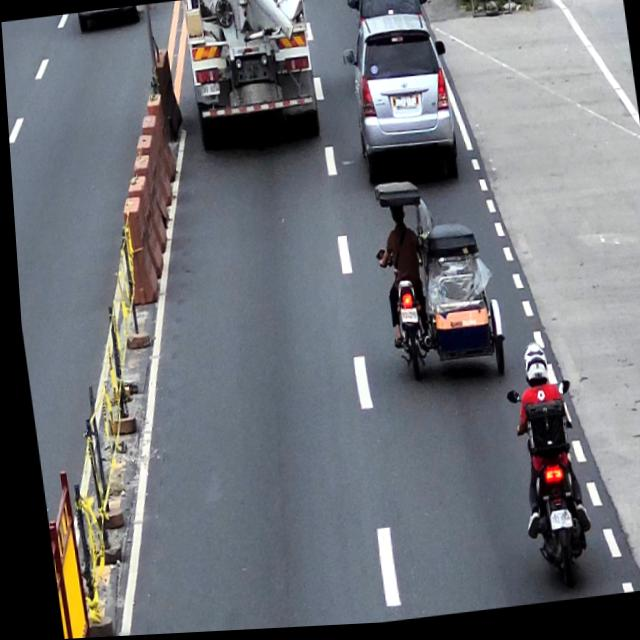Car: (337, 13, 460, 196), (344, 0, 430, 29)
License-Plate: (541, 514, 565, 537), (391, 96, 417, 115), (395, 310, 413, 329), (197, 83, 219, 98)
Motorcycle: (499, 383, 588, 598)
Tricycle: (363, 175, 504, 393)
Truck: (180, 0, 321, 153)
